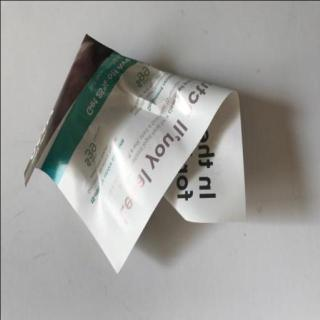Anorganik: (17, 28, 251, 275)
